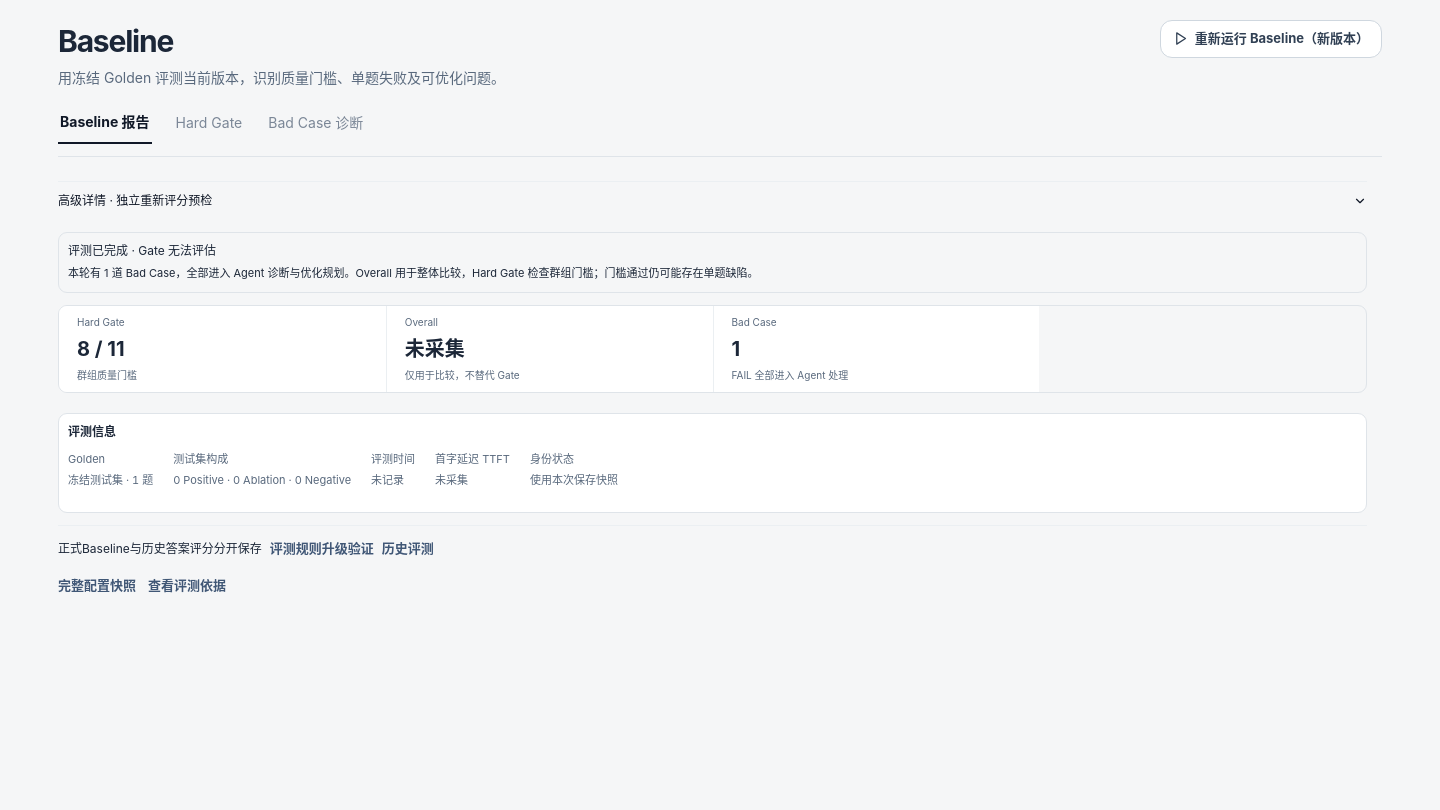
Test: keeps the Baseline Bad Case table compact and detail ready
Step 1. Click the button "Bad Case 诊断" → (316, 123), box x1=266 y1=101 x2=365 y2=144
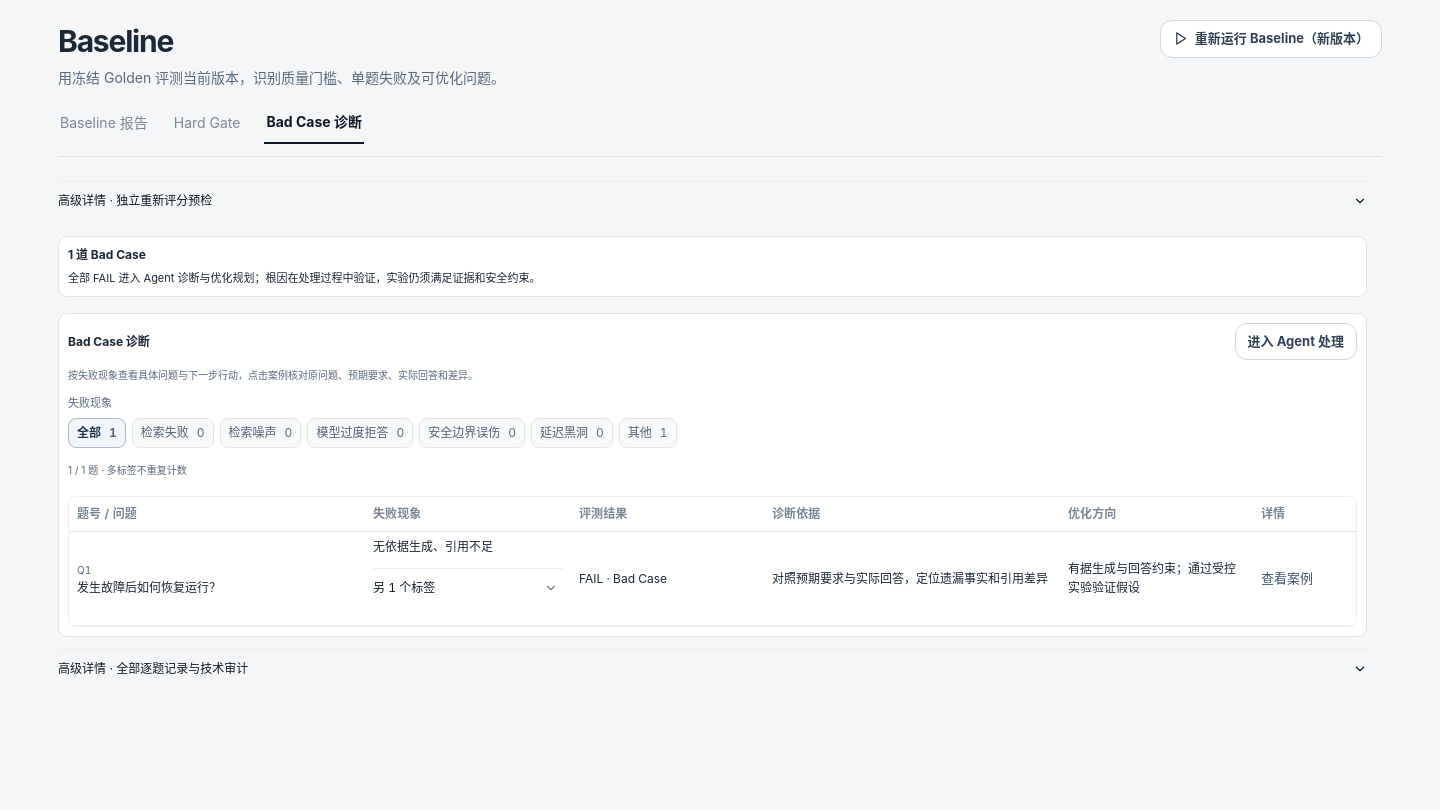
Expected: the table shows "无依据生成", x1=373 y1=539 x2=493 y2=554
Expected: the table shows "发生故障后如何恢复运行？", x1=77 y1=580 x2=221 y2=595
